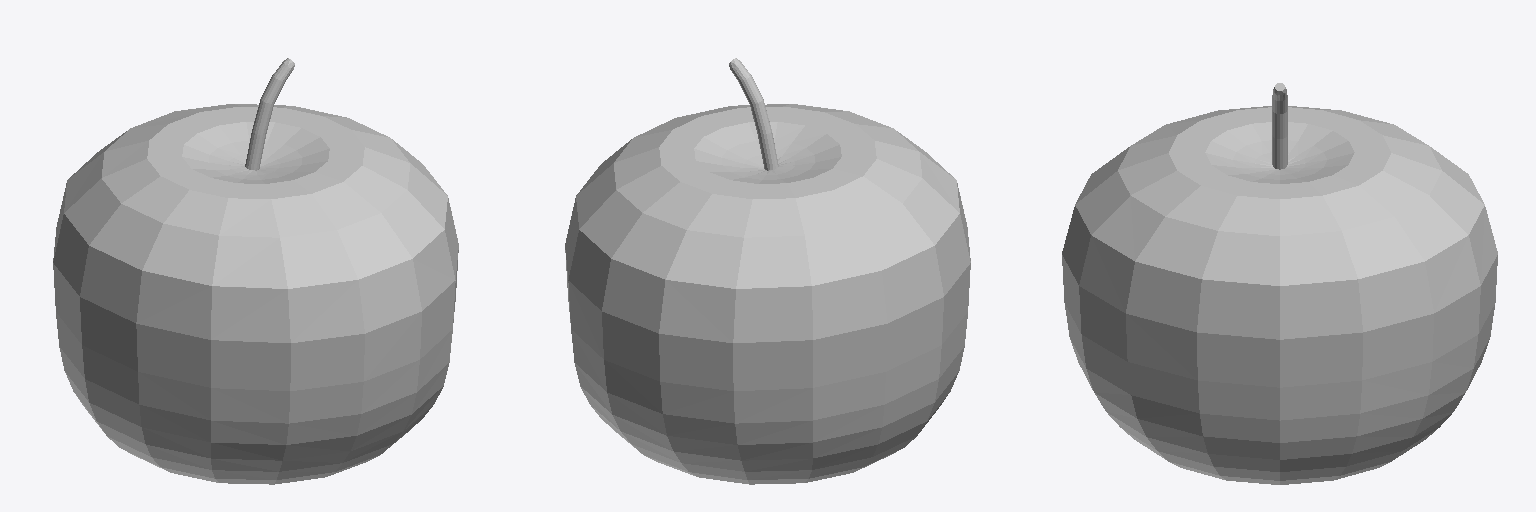
File: apple.obj
3 views of the same model, side by side, from view 1: azimuth 30°, elevation 25°; view 2: azimuth 150°, elevation 25°; view 3: azimuth 270°, elevation 25° (orthographic).
Parts seen in each view (by area): view 1: revolvedSurface1; view 2: revolvedSurface1; view 3: revolvedSurface1.
Boxes of the visible parts, x1=… form: revolvedSurface1: x1=53, y1=58, x2=458, y2=484; revolvedSurface1: x1=565, y1=58, x2=970, y2=484; revolvedSurface1: x1=1062, y1=83, x2=1497, y2=484.
Size of the model in its own units: 1.14 by 1.17 by 1.22.